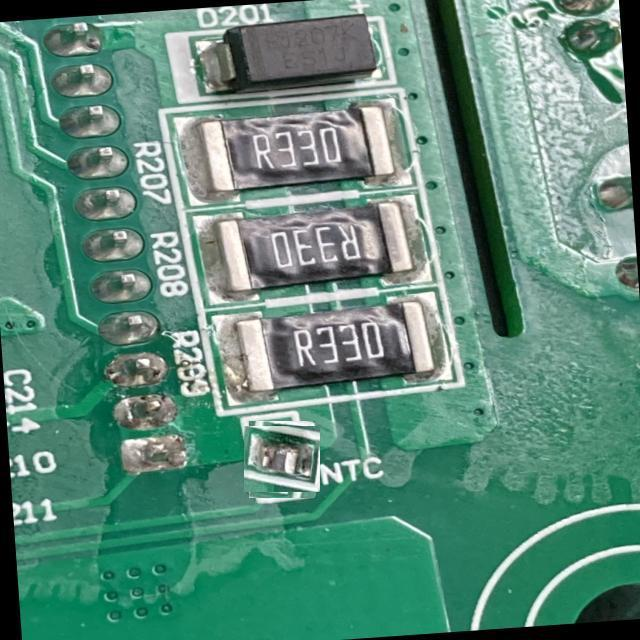damged: (246, 424, 318, 495)
